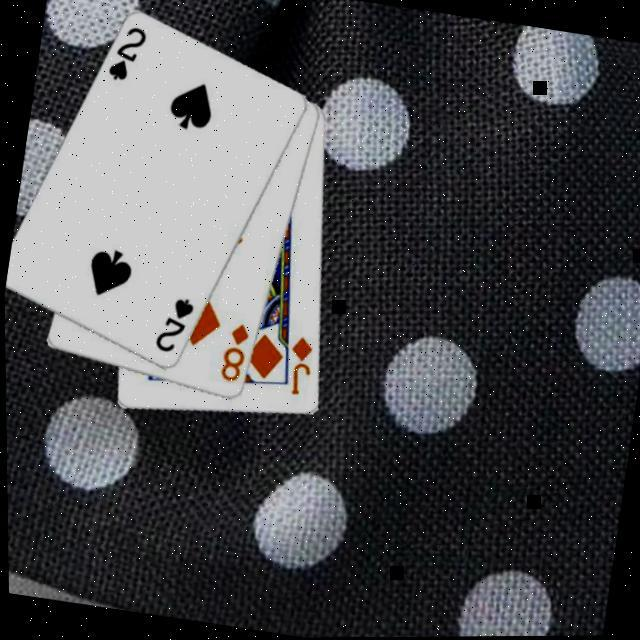2S: (149, 292, 197, 360), (102, 22, 150, 89)
8D: (213, 320, 252, 388)
JD: (279, 334, 318, 402)
